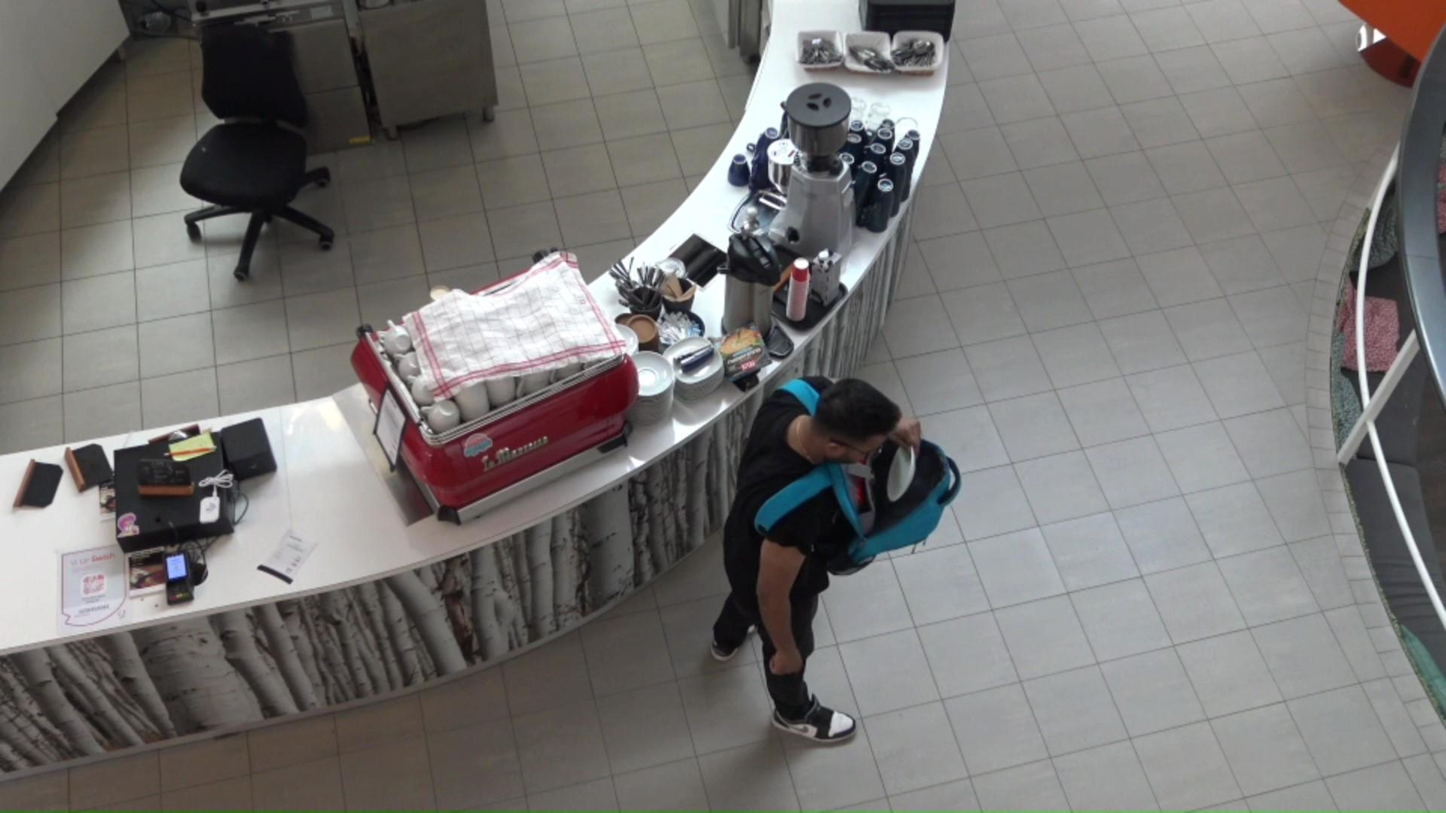shoplifting: (712, 373, 950, 747)
